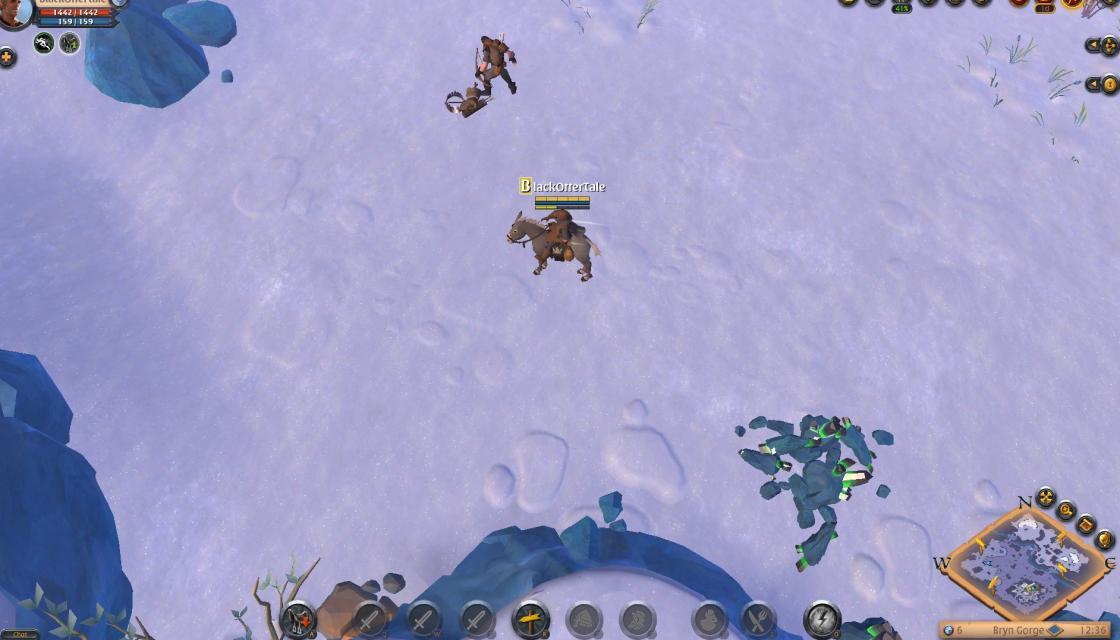limestone: (299, 575, 407, 640)
tinore: (795, 406, 855, 448)
